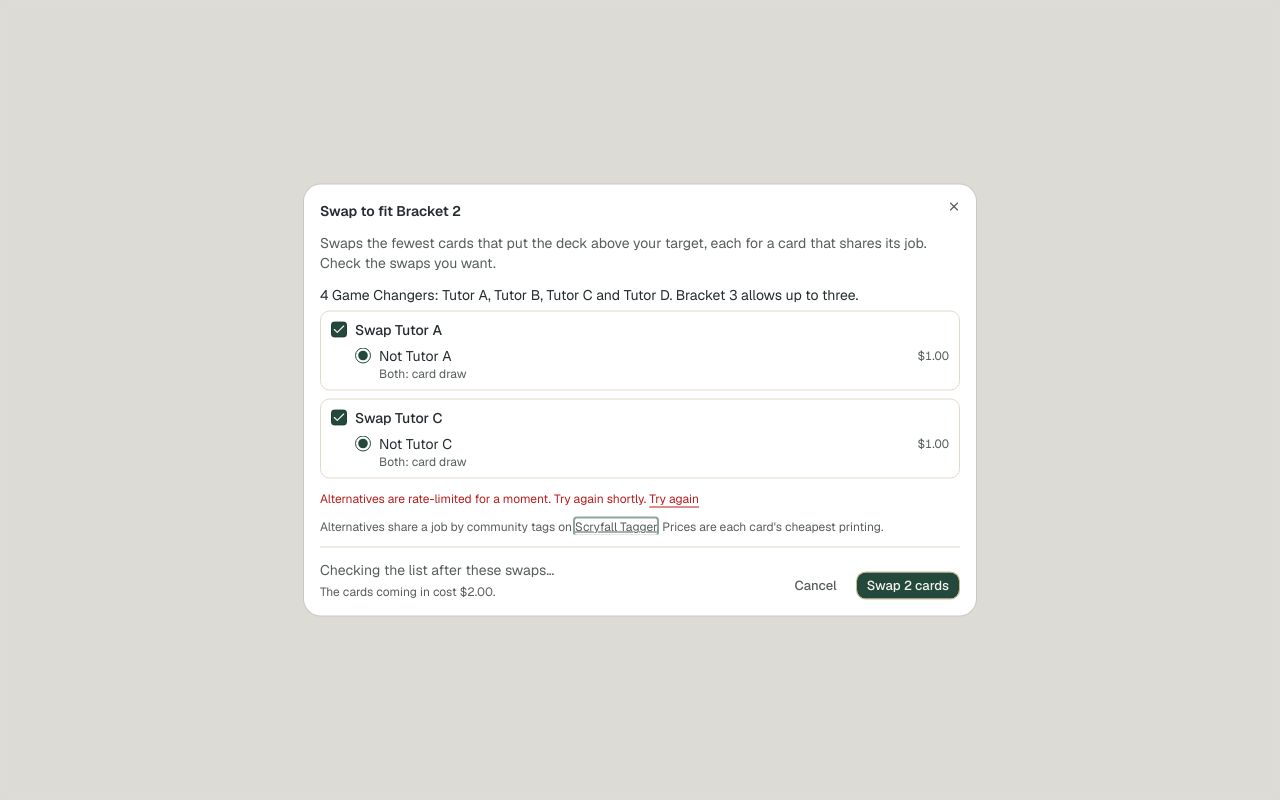
Scenario: TargetFitSheet — the asks › a 429 stops the asking and says so; Try again asks the failed card again
Expected: the dialog "Swap to fit Bracket 2" shows "Alternatives are rate-limited for a moment. Try again shortly.", 320,490 -> 646,506
Expected: the button "Swap 2 cards" is shown, 856,572 -> 960,600
What coordinates should you click on to do the following:
click the button "Try again"
I would click on:
 (674, 498)
Its box is 649,490 -> 699,506.
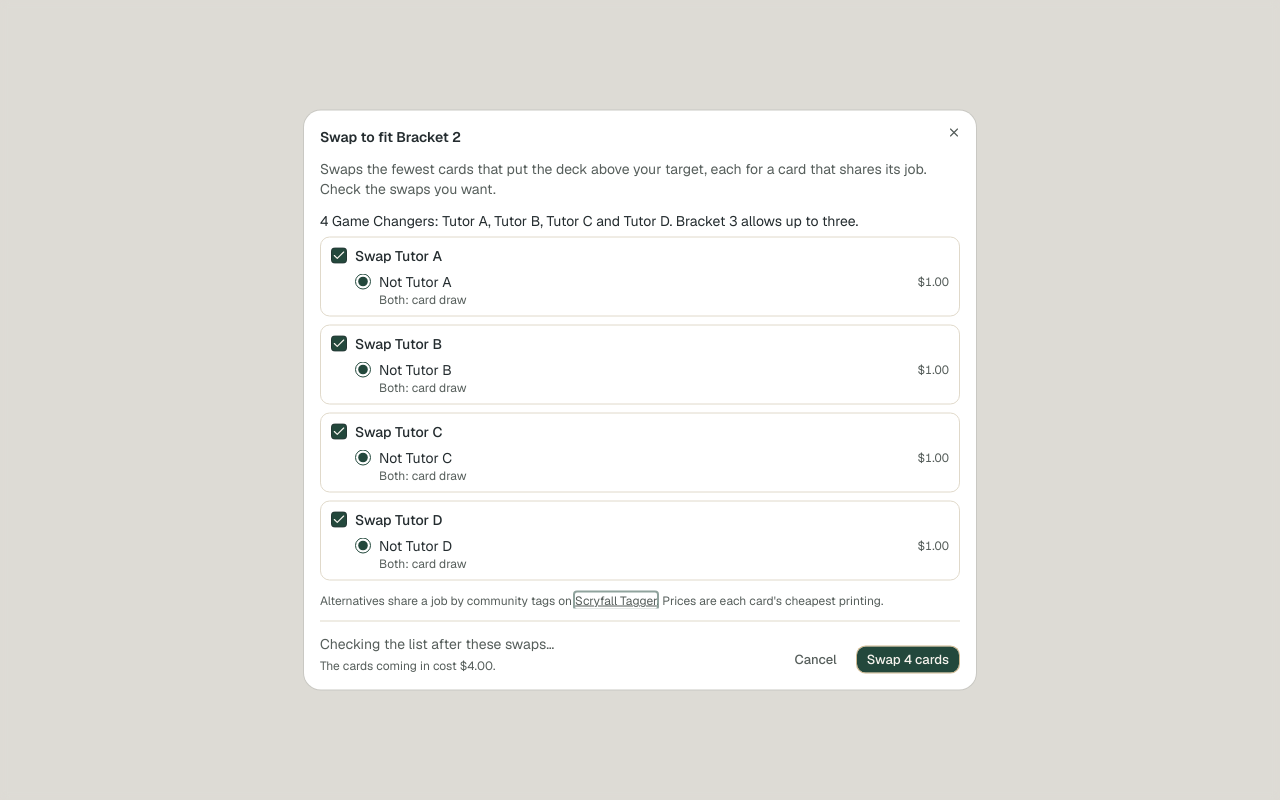
Expected: the button "Swap 4 cards" is shown, 856,646 -> 960,674
